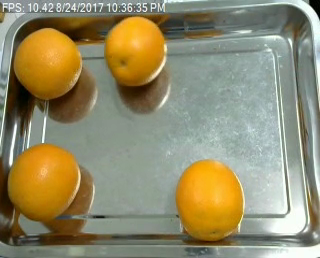Orange: (7, 141, 81, 222), (174, 157, 243, 239), (12, 26, 82, 100), (104, 15, 168, 85)
